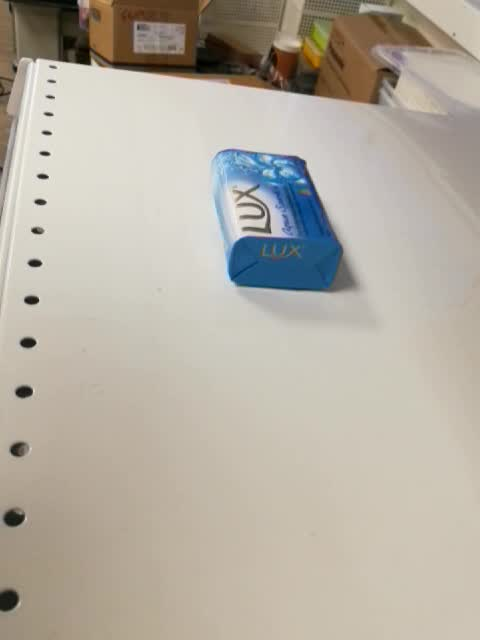soap: (209, 147, 347, 295)
